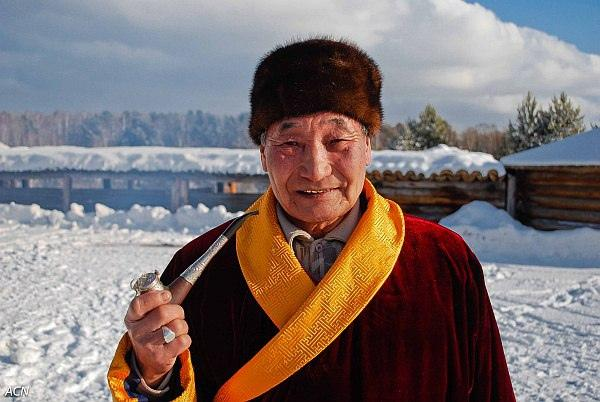trubka: (131, 211, 260, 304)
